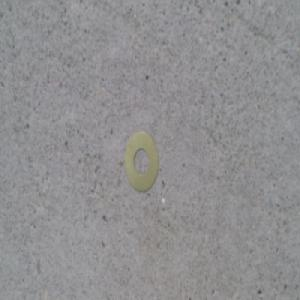Washer: (125, 132, 160, 193)
